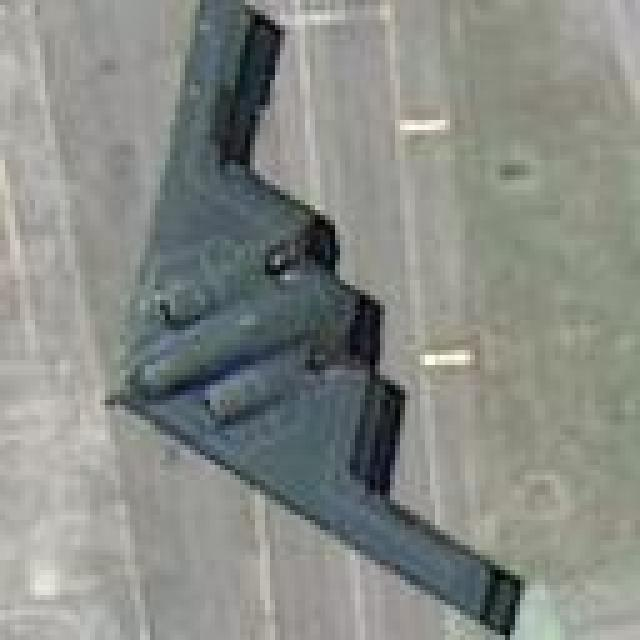B-2_TopDown: (95, 0, 525, 635)
